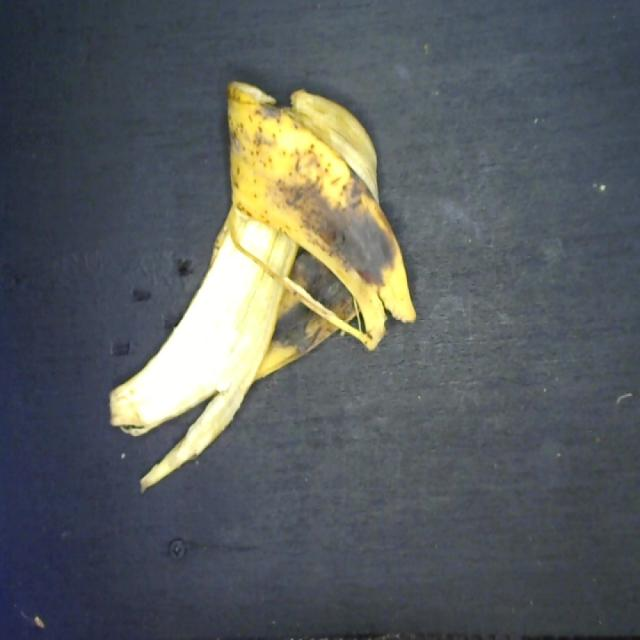biodegradable: (104, 69, 420, 512)
